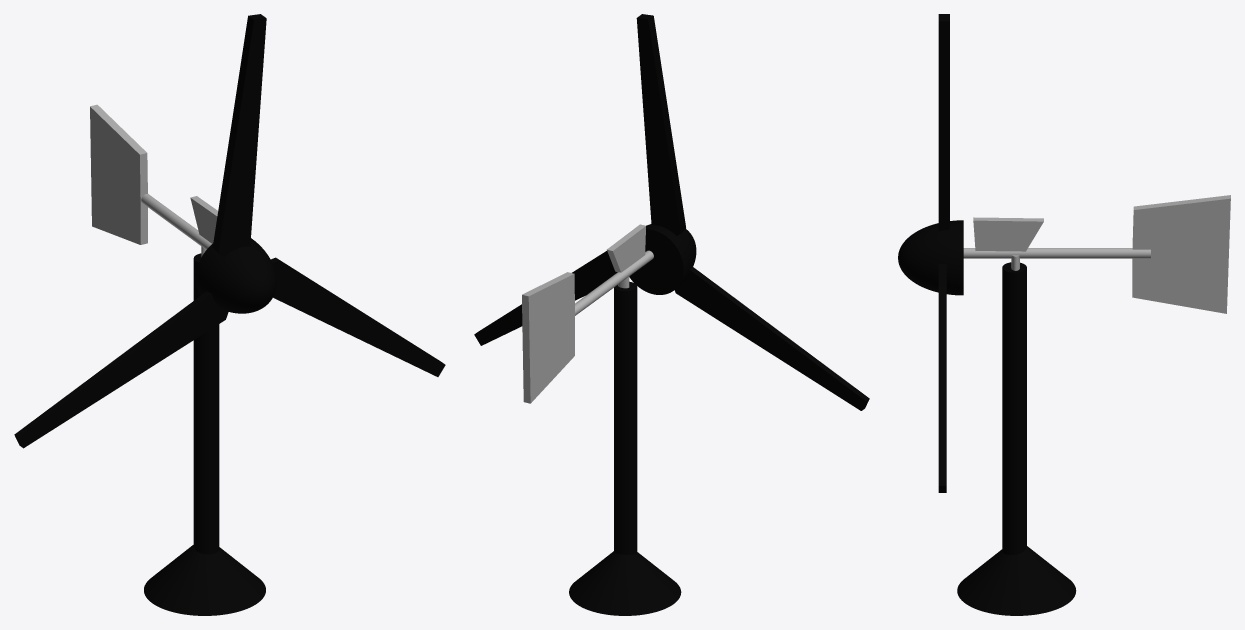
The model's file is turbine wind.fbx.
3 renders of one model, left to right at view 1: azimuth 30°, elevation 25°; view 2: azimuth 150°, elevation 25°; view 3: azimuth 270°, elevation 25°, orthographic. The views are drawn at different scales.
Parts seen in each view (by area): view 1: root (×9); view 2: root (×9); view 3: root (×8).
Boxes of the visible parts, <box> form: root (×9): <box>14,14,445,615</box>; root (×9): <box>474,14,869,615</box>; root (×8): <box>898,14,1230,615</box>.
Size of the model in its own units: 0.2177 by 0.2907 by 0.1509.
Materials: 12 (8 with a texture image).
